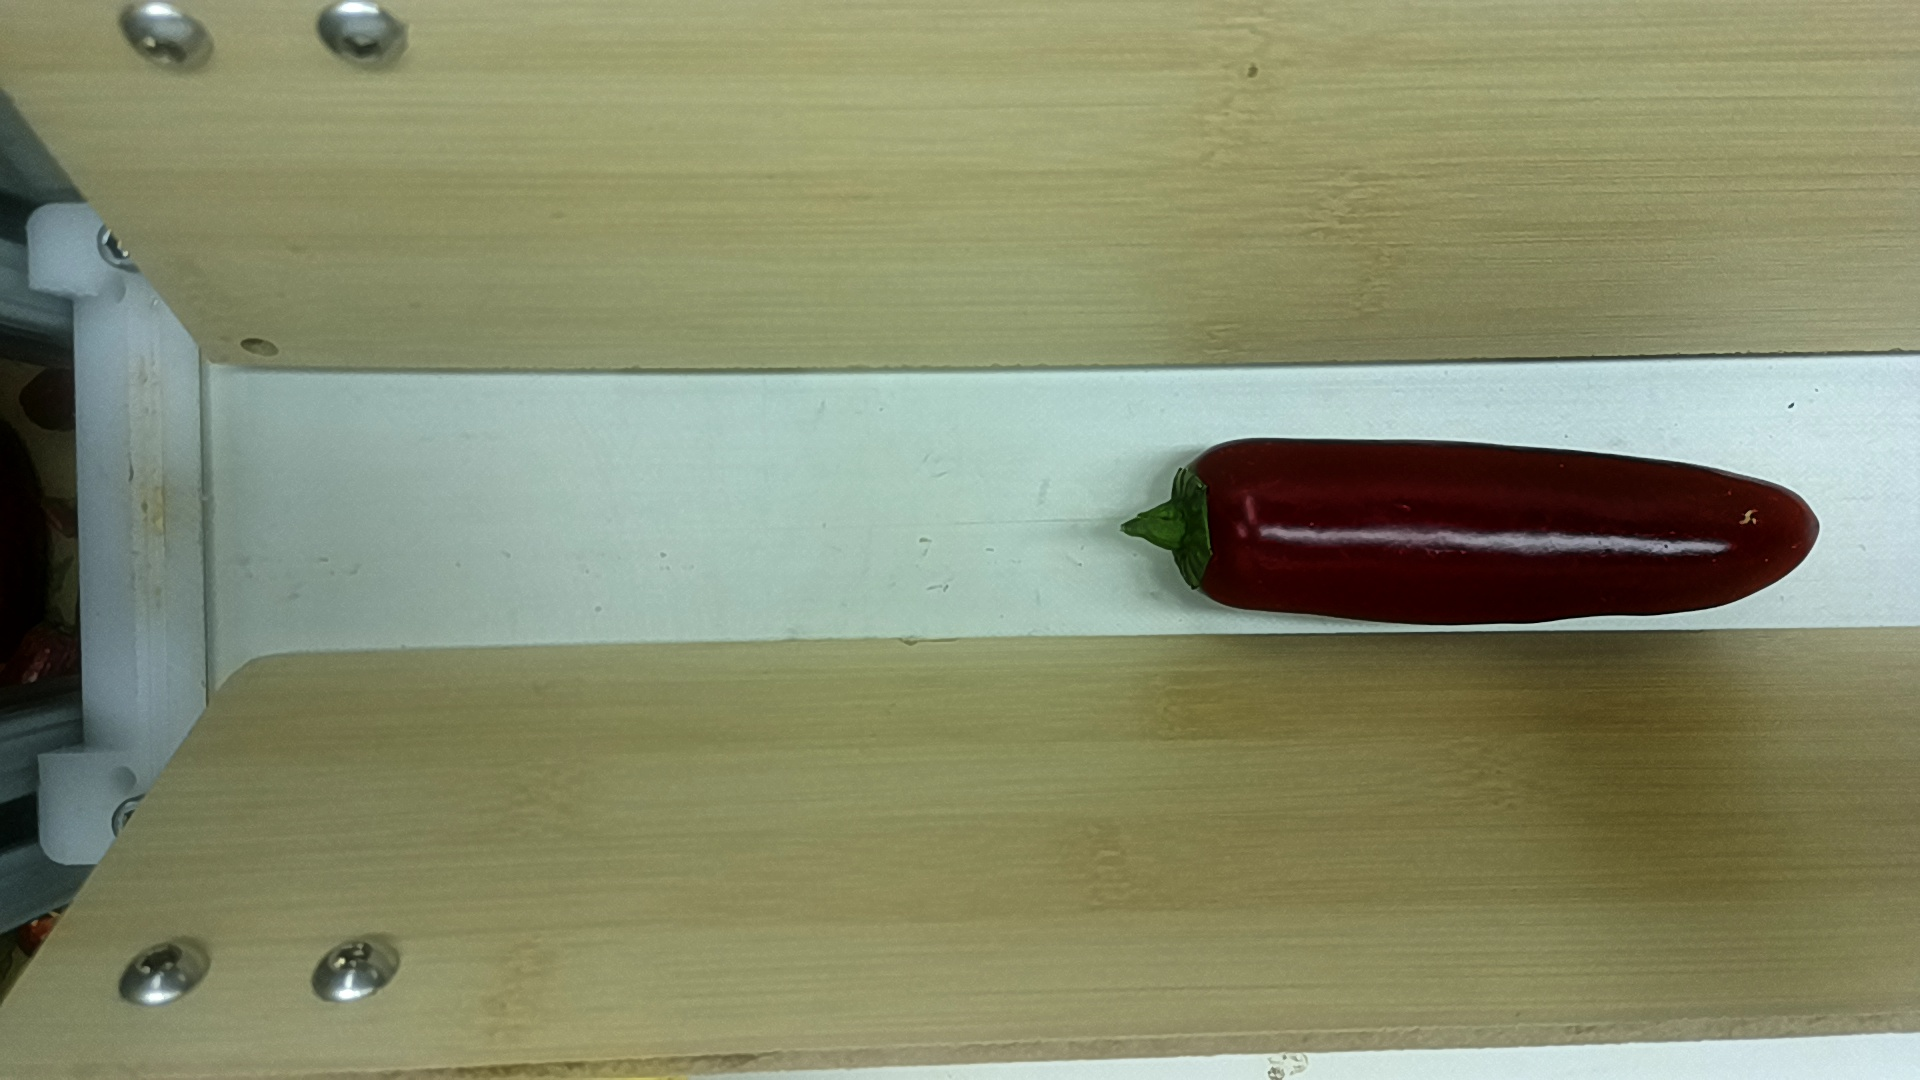Cut Point: (1162, 427, 1255, 618)
